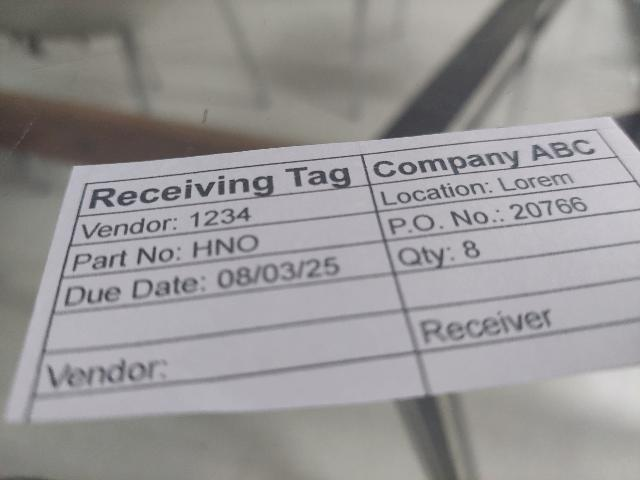PO no: (378, 180, 640, 240)
part no: (61, 211, 383, 279)
qty: (386, 211, 640, 272)
tags: (7, 119, 640, 426)
